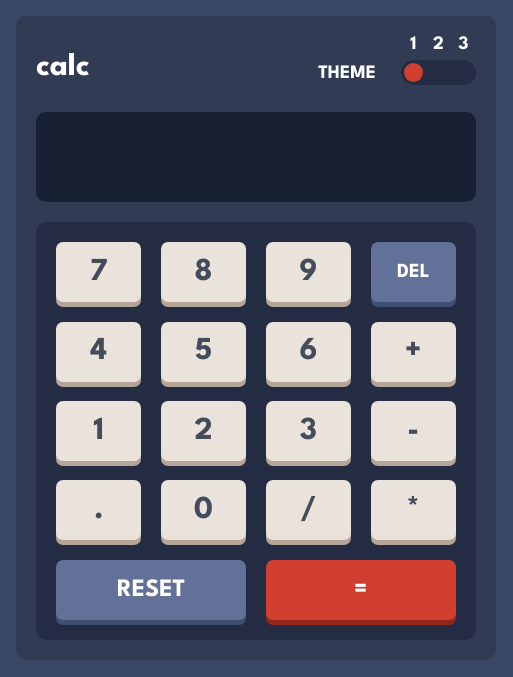
Basic operations › Should render a positive number
Click the button "7".
click(99, 272)  # box [56, 242, 142, 302]
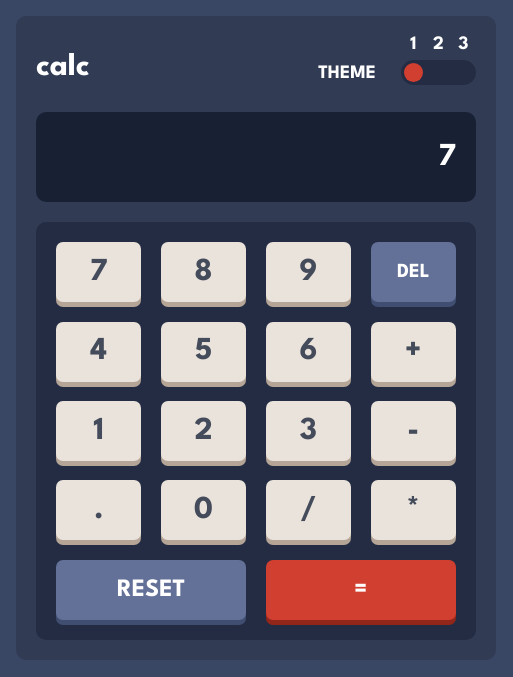
Check: the field holds "7", box [36, 112, 476, 202]
